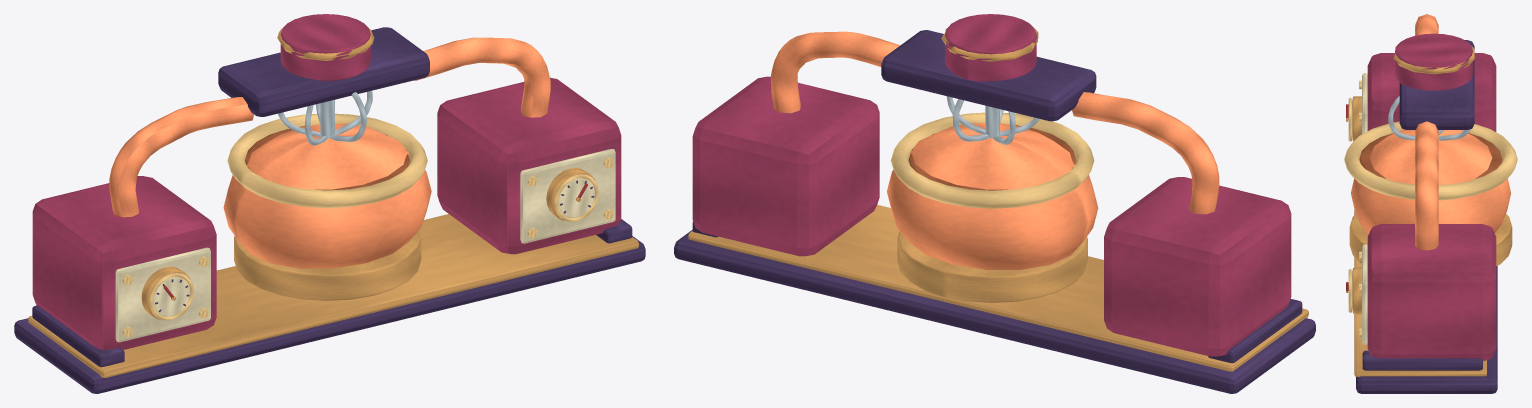
File: Candyland-Copper-Mixer.glb
The picture shows the model from 3 angles, left to right: view 1: azimuth 30°, elevation 25°; view 2: azimuth 150°, elevation 25°; view 3: azimuth 270°, elevation 25°; orthographic projection. The views are drawn at different scales.
Parts seen in each view (by area): view 1: Candyland-Copper-Mixer | housing, Candyland-Copper-Mixer | moving assembly; view 2: Candyland-Copper-Mixer | housing, Candyland-Copper-Mixer | moving assembly; view 3: Candyland-Copper-Mixer | housing, Candyland-Copper-Mixer | moving assembly.
Part boxes in pixels (bbox=[...]): Candyland-Copper-Mixer | housing: bbox=[14, 14, 645, 393]; Candyland-Copper-Mixer | moving assembly: bbox=[278, 90, 372, 145]; Candyland-Copper-Mixer | housing: bbox=[674, 14, 1315, 393]; Candyland-Copper-Mixer | moving assembly: bbox=[946, 96, 1039, 144]; Candyland-Copper-Mixer | housing: bbox=[1344, 14, 1517, 393]; Candyland-Copper-Mixer | moving assembly: bbox=[1388, 96, 1470, 140].
Bounding box in the file's own units: 5.4 × 2.46 × 1.69.
9 materials, 9 textured.
